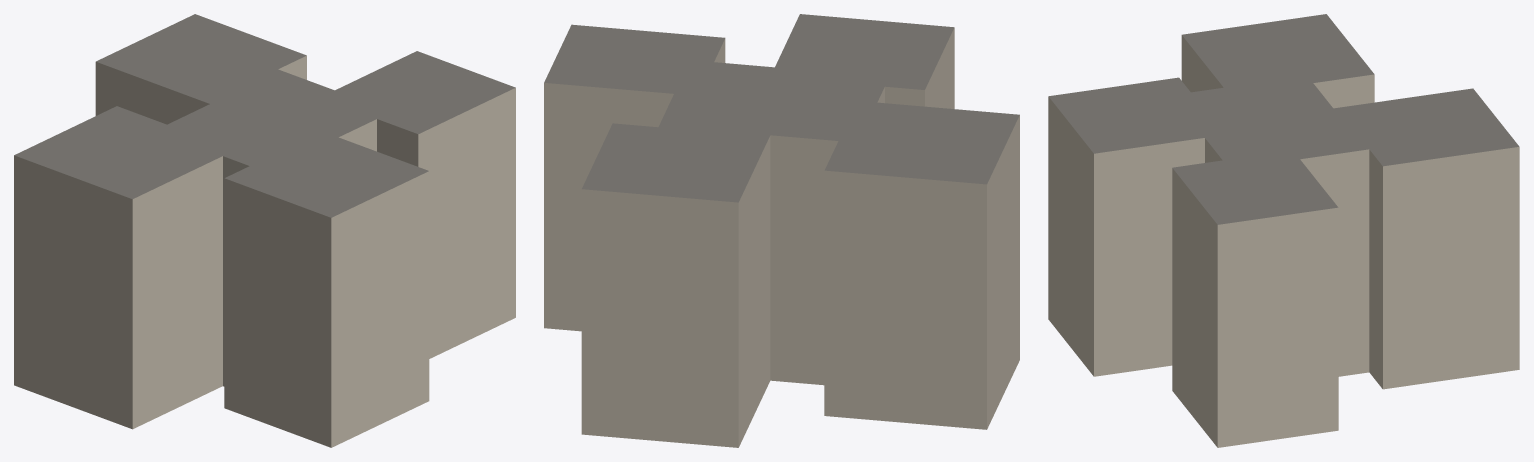
3 renders of one model, left to right at view 1: azimuth 30°, elevation 25°; view 2: azimuth 150°, elevation 25°; view 3: azimuth 270°, elevation 25°, orthographic. The views are drawn at different scales.
Parts seen in each view (by area): view 1: HP-w1286957263; view 2: HP-w1286957263; view 3: HP-w1286957263.
Boxes of the visible parts, <box> form: HP-w1286957263: <box>14,14,515,447</box>; HP-w1286957263: <box>544,14,1019,447</box>; HP-w1286957263: <box>1048,14,1519,447</box>.
Bounding box in the file's own units: 36.49 × 18 × 34.46.
